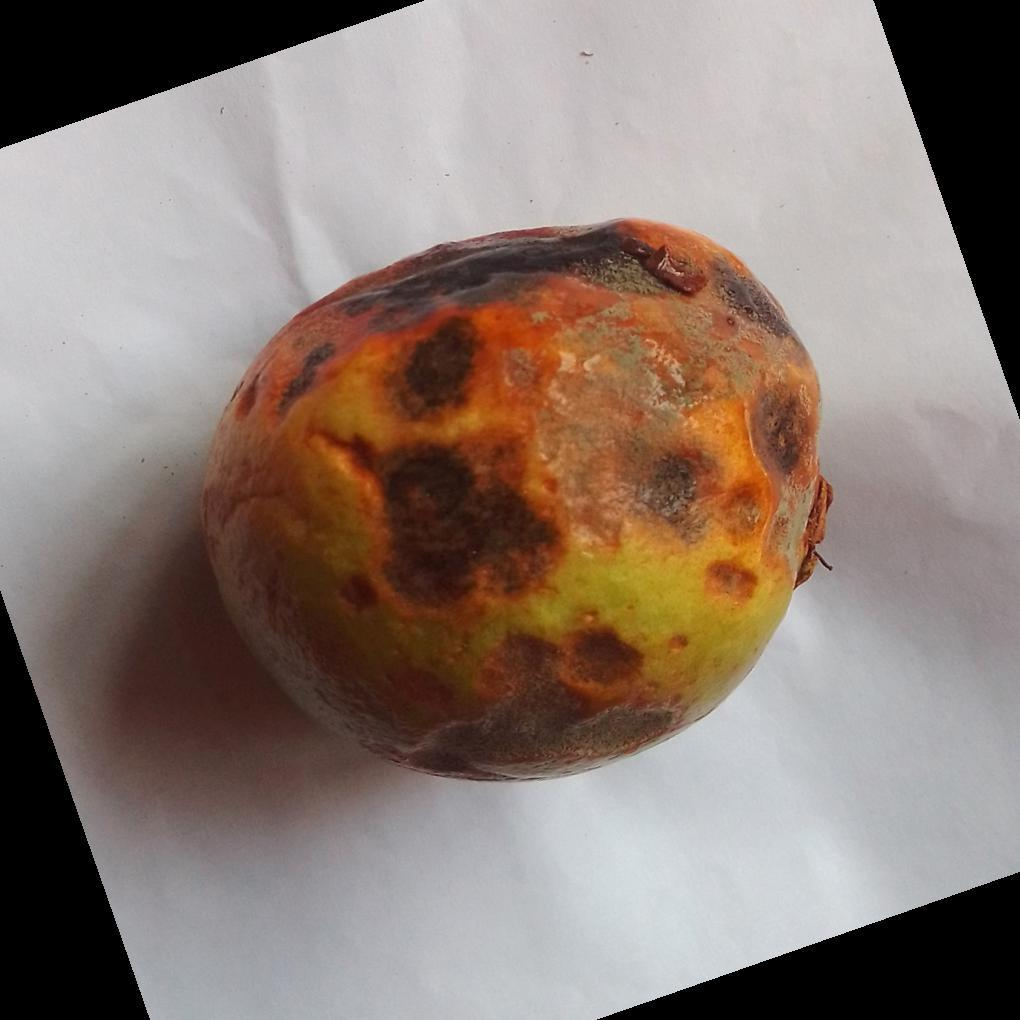FreshOrange: (198, 220, 832, 787)
